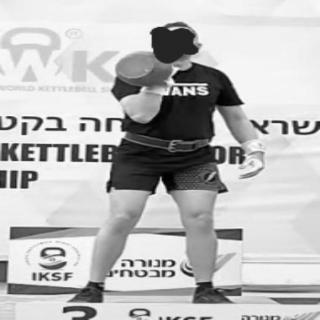kettlebell: (115, 50, 177, 87)
